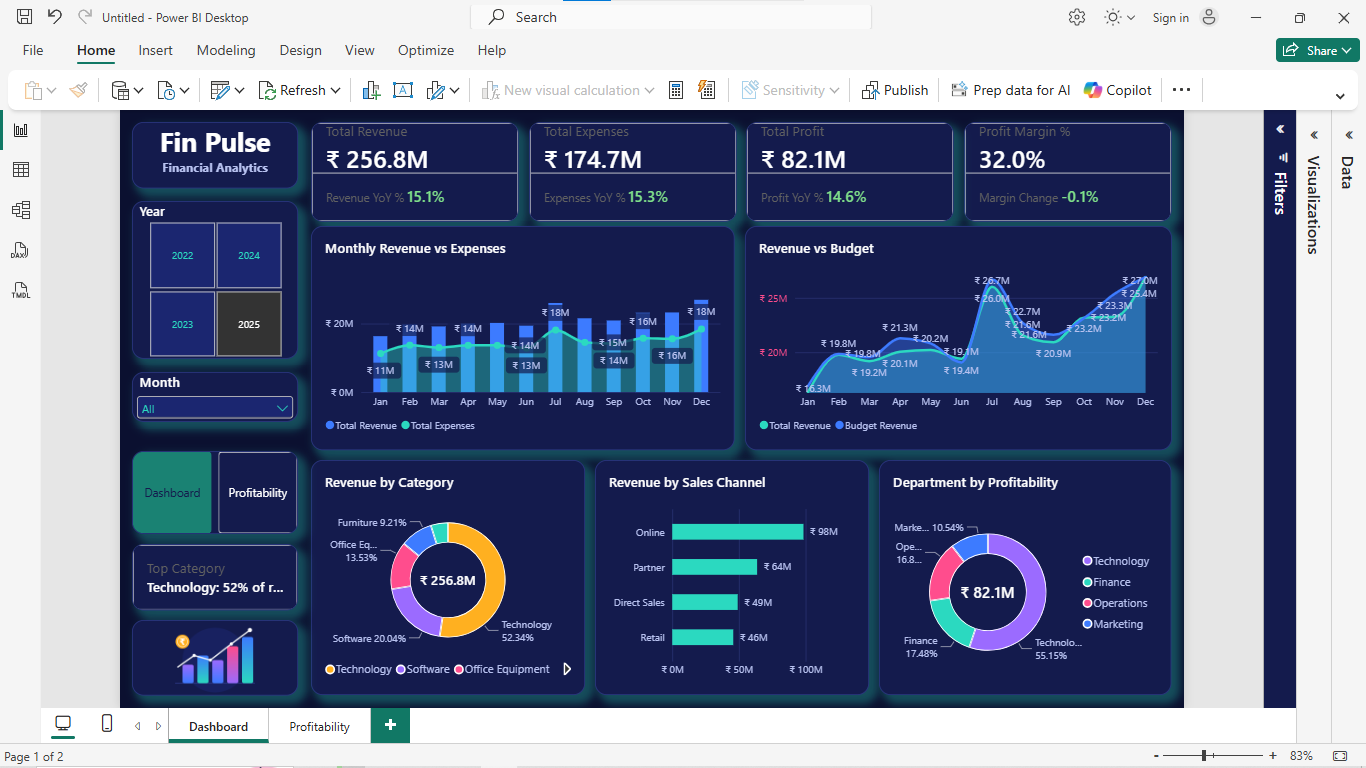

Layout of this report page (visuals, bound fields, positions):
{"tool":"powerbi","page":{"name":"Dashboard","canvas":[1280,720],"ordinal":0},"visuals":[{"type":"textbox","box":[15,15,200,80],"z":0},{"type":"slicer","fields":{"Values":["DimDate.Year"]},"box":[15,110,200,190],"z":1000},{"type":"slicer","fields":{"Values":["DimDate.Month"]},"box":[15,315,200,60],"z":2000},{"type":"cardVisual","fields":{"Data":["fact_transactions.Total Revenue"]},"box":[230,15,250,120],"z":3000},{"type":"cardVisual","fields":{"Data":["fact_transactions.Profit Margin %"]},"box":[1016,15,250,120],"z":4000},{"type":"cardVisual","fields":{"Data":["fact_transactions.Total Expenses"]},"box":[492,15,250,120],"z":5000},{"type":"cardVisual","fields":{"Data":["fact_transactions.Total Profit"]},"box":[754,15,250,120],"z":6000},{"type":"lineClusteredColumnComboChart","title":"Monthly Revenue vs Expenses","fields":{"Category":["DimDate.Month"],"Y":["fact_transactions.Total Revenue"],"Y2":["fact_transactions.Total Expenses"]},"box":[230,140,510,270],"z":7000},{"type":"areaChart","title":"Revenue vs Budget","fields":{"Category":["DimDate.Month"],"Y":["fact_transactions.Total Revenue","fact_transactions.Budget Revenue"]},"box":[752,140,514,270],"z":8000},{"type":"donutChart","title":"Revenue by Category","fields":{"Category":["dim_products.category"],"Y":["fact_transactions.Total Revenue"]},"box":[230,422,330,283],"z":9000},{"type":"clusteredBarChart","title":"Revenue by Sales Channel","fields":{"Category":["fact_transactions.sales_channel"],"Y":["fact_transactions.Total Revenue"]},"box":[572,422,330,283],"z":10000},{"type":"donutChart","title":"Department by Profitability","fields":{"Category":["dim_products.department"],"Y":["fact_transactions.Total Profit"]},"box":[914,422,352,283],"z":11000},{"type":"pageNavigator","box":[15,410,200,100],"z":12000},{"type":"cardVisual","fields":{"Data":["fact_transactions.Top Category"]},"box":[15,522,200,80],"z":13000},{"type":"image","box":[15,614,200,91],"z":14000}]}

Visuals, with their boxes on the page's 1280x720 design canvas (x1, y1, x2, y2). These are canvas units, not pixel positions in the 1366x768 screenshot, which may show the page scaled, cropped or inside an application window:
textbox: box(15, 15, 215, 95)
slicer - DimDate.Year: box(15, 110, 215, 300)
slicer - DimDate.Month: box(15, 315, 215, 375)
cardVisual - fact_transactions.Total Revenue: box(230, 15, 480, 135)
cardVisual - fact_transactions.Profit Margin %: box(1016, 15, 1266, 135)
cardVisual - fact_transactions.Total Expenses: box(492, 15, 742, 135)
cardVisual - fact_transactions.Total Profit: box(754, 15, 1004, 135)
"Monthly Revenue vs Expenses" lineClusteredColumnComboChart: box(230, 140, 740, 410)
"Revenue vs Budget" areaChart: box(752, 140, 1266, 410)
"Revenue by Category" donutChart: box(230, 422, 560, 705)
"Revenue by Sales Channel" clusteredBarChart: box(572, 422, 902, 705)
"Department by Profitability" donutChart: box(914, 422, 1266, 705)
pageNavigator: box(15, 410, 215, 510)
cardVisual - fact_transactions.Top Category: box(15, 522, 215, 602)
image: box(15, 614, 215, 705)
